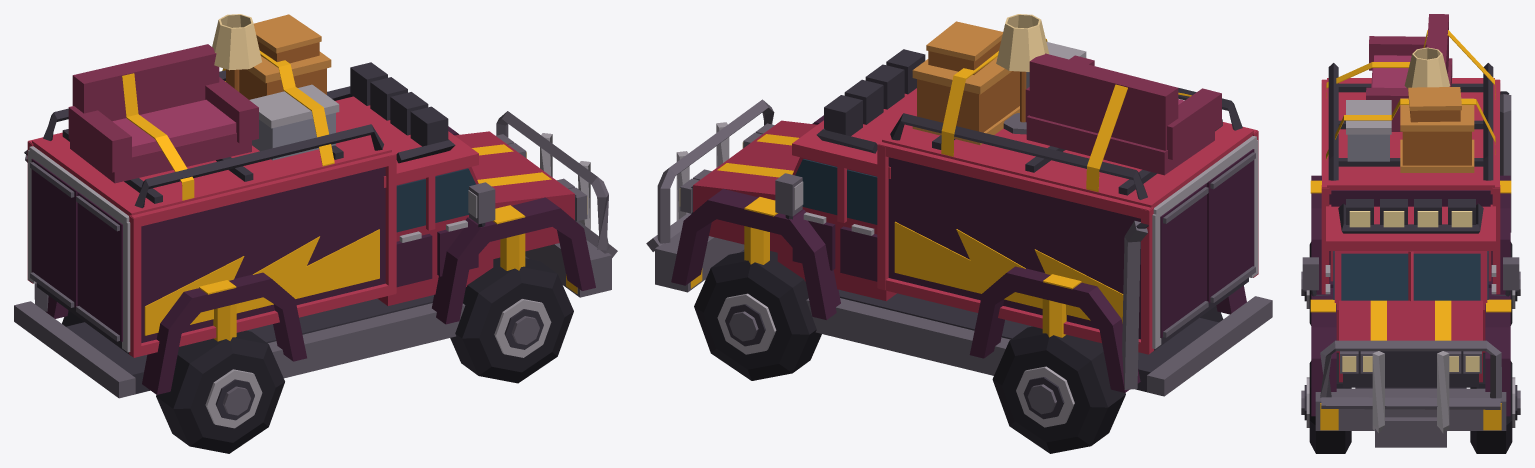
Rendered from thief_truck_01_LOD2.fbx.
3 renders of one model, left to right at view 1: azimuth 30°, elevation 25°; view 2: azimuth 150°, elevation 25°; view 3: azimuth 270°, elevation 25°, orthographic. The views are drawn at different scales.
Visible parts, largest first — view 1: CargoBody_LOD2_Mesh, Cabin_LOD2_Mesh, StolenCouch_LOD2_Mesh, WheelArchArmour_LOD2_Mesh, Chassis_LOD2_Mesh, Wheel_Rear_Right_LOD2_Mesh, Wheel_Front_Right_LOD2_Mesh, RearCargoDoor_Right_LOD2_Mesh, RearCargoDoor_Left_LOD2_Mesh, RoofRack_LOD2_Mesh, GreyStorageContainer_LOD2_Mesh, YellowCargoStraps_LOD2_Mesh (+3 smaller); view 2: CargoBody_LOD2_Mesh, Cabin_LOD2_Mesh, StolenCouch_LOD2_Mesh, WheelArchArmour_LOD2_Mesh, Chassis_LOD2_Mesh, Wheel_Rear_Left_LOD2_Mesh, Wheel_Front_Left_LOD2_Mesh, RearCargoDoor_Left_LOD2_Mesh, RearCargoDoor_Right_LOD2_Mesh, WoodenStorageCrate_LOD2_Mesh, RoofRack_LOD2_Mesh, CreamFloorLamp_LOD2_Mesh (+3 smaller); view 3: Cabin_LOD2_Mesh, CargoBody_LOD2_Mesh, WheelArchArmour_LOD2_Mesh, WoodenStorageCrate_LOD2_Mesh, StolenCouch_LOD2_Mesh, RoofRack_LOD2_Mesh, GreyStorageContainer_LOD2_Mesh, SmallWoodenBox_LOD2_Mesh, Wheel_Front_Left_LOD2_Mesh, Wheel_Front_Right_LOD2_Mesh, YellowCargoStraps_LOD2_Mesh, CreamFloorLamp_LOD2_Mesh (+3 smaller).
Boxes of the visible parts, x1,y1,x2,y2 form: CargoBody_LOD2_Mesh: (14,111,396,398); Cabin_LOD2_Mesh: (327,62,617,305); StolenCouch_LOD2_Mesh: (68,44,258,183); WheelArchArmour_LOD2_Mesh: (45,126,595,394); Chassis_LOD2_Mesh: (66,233,528,393); Wheel_Rear_Right_LOD2_Mesh: (156,330,284,453); Wheel_Front_Right_LOD2_Mesh: (450,257,573,383); RearCargoDoor_Right_LOD2_Mesh: (30,158,77,308); RearCargoDoor_Left_LOD2_Mesh: (76,192,122,341); RoofRack_LOD2_Mesh: (43,70,383,208); GreyStorageContainer_LOD2_Mesh: (249,84,339,160); YellowCargoStraps_LOD2_Mesh: (122,50,334,200); CargoBody_LOD2_Mesh: (877,114,1272,396); Cabin_LOD2_Mesh: (646,49,925,301); StolenCouch_LOD2_Mesh: (1025,53,1221,175); WheelArchArmour_LOD2_Mesh: (671,115,1246,392); Chassis_LOD2_Mesh: (740,226,1218,391); Wheel_Rear_Left_LOD2_Mesh: (992,326,1125,453); Wheel_Front_Left_LOD2_Mesh: (694,251,821,380); RearCargoDoor_Left_LOD2_Mesh: (1206,149,1255,303); RearCargoDoor_Right_LOD2_Mesh: (1160,183,1208,338); WoodenStorageCrate_LOD2_Mesh: (912,57,1019,145); RoofRack_LOD2_Mesh: (890,88,1242,199); CreamFloorLamp_LOD2_Mesh: (996,14,1049,134); Cabin_LOD2_Mesh: (1302,199,1519,447); CargoBody_LOD2_Mesh: (1321,78,1500,294); WheelArchArmour_LOD2_Mesh: (1310,175,1511,416); WoodenStorageCrate_LOD2_Mesh: (1400,98,1474,172); StolenCouch_LOD2_Mesh: (1366,14,1452,131); RoofRack_LOD2_Mesh: (1328,63,1493,180); GreyStorageContainer_LOD2_Mesh: (1346,100,1391,161); SmallWoodenBox_LOD2_Mesh: (1408,87,1461,122); Wheel_Front_Left_LOD2_Mesh: (1470,352,1520,453); Wheel_Front_Right_LOD2_Mesh: (1301,352,1351,453); YellowCargoStraps_LOD2_Mesh: (1326,30,1495,159); CreamFloorLamp_LOD2_Mesh: (1404,47,1450,89).
Bounding box in the file's own units: 8.39 × 5.82 × 3.74.
